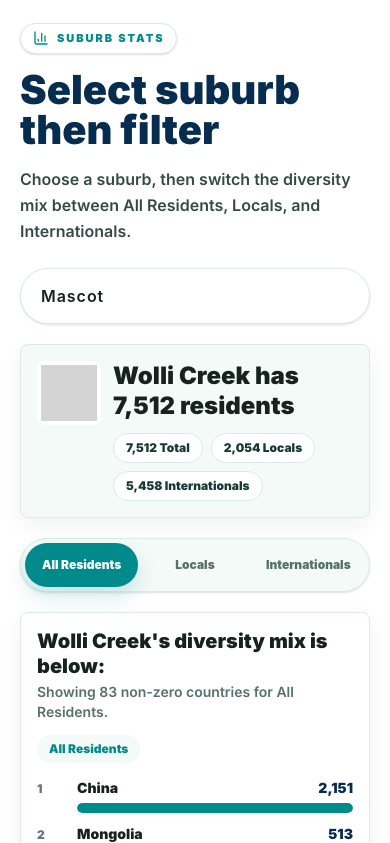
Test: Where’s Wolli pages › updates the diversity mix when a different suburb is selected
Select "Mascot" in the dropdown named "Select suburb" at [195, 296], box top-left (20, 268), bottom-right (370, 324)
(page scrolled)
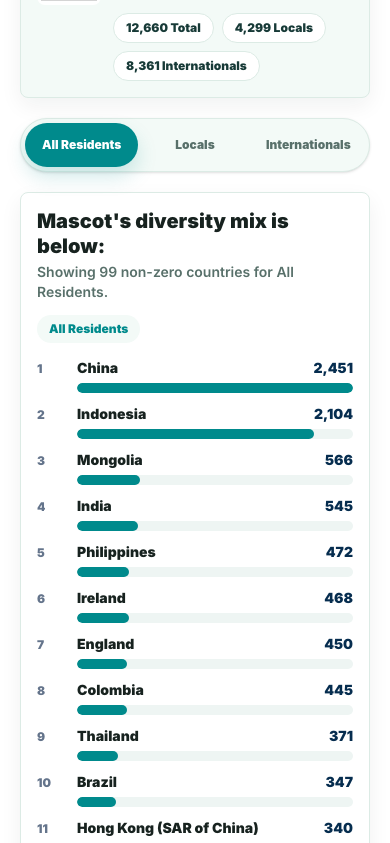
Expected: the text "12,660 Total" is shown, top-left (113, 12), bottom-right (214, 42)
Expected: the text "4,299 Locals" is shown, top-left (222, 12), bottom-right (326, 42)
Expected: the text "8,361 Internationals" is shown, top-left (113, 50), bottom-right (260, 80)
